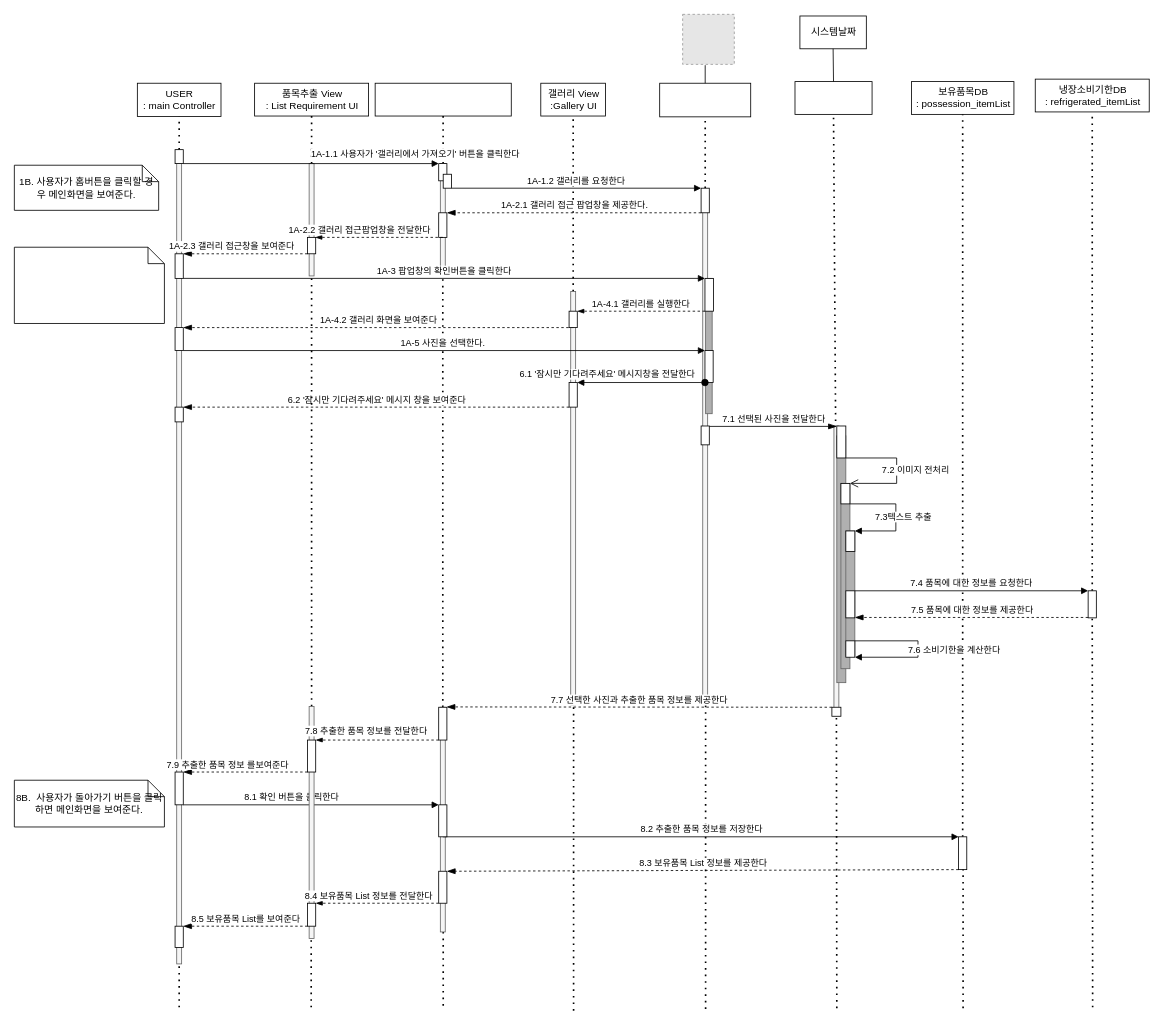
Some shapes in this 1164 by 1027 pixel diagram are drawn without their labels. Grey dashed boxes stand in for pictures. Here are the shapes that lost their labels. From the top down, the centre of each, then its label:
(x=442, y=99): 품목추출 Controller : List Requirement Controller
(x=705, y=99): 갤러리 Controller :Gallery Controller
(x=833, y=97): OCR Controller :OCR Activity
(x=89, y=284): 1-3A. 사용자가 팝업창의 확인 버튼을 누르지 않고 취소 버튼을 클릭할 경우 시스템이 "팝업을 허용해주세요" 라는 메세지를 표시
